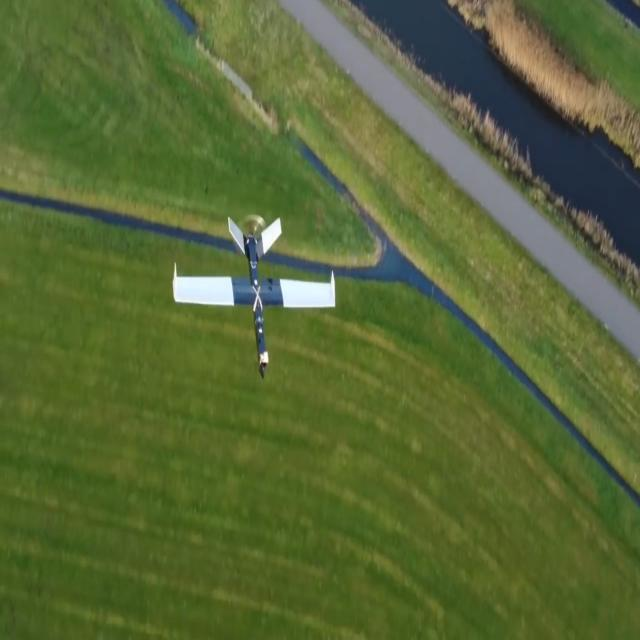iha: (171, 218, 341, 376)
